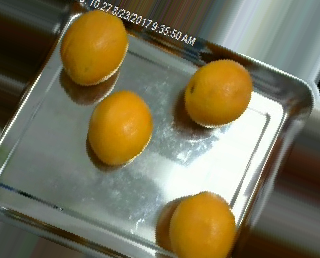Orange: (59, 10, 128, 86), (87, 89, 153, 166), (184, 58, 252, 127), (169, 190, 237, 258)
